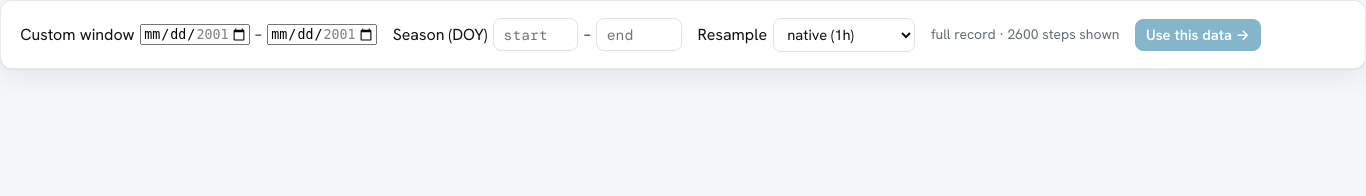
Test case: review repairs: what the bar says before "Use this data" › a window over the daily part of a daily-then-hourly record announces the new step (subset-07)
In the date field named "window start": (195, 35) [140,24,250,45], type "2001-01-01"
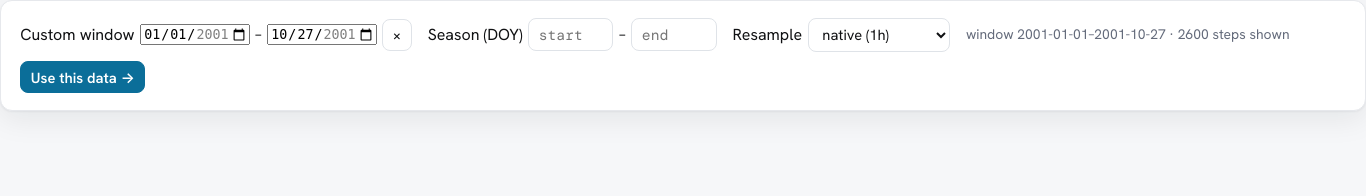
In the date field named "window end": (322, 35) [267,24,377,45], type "2001-05-31"
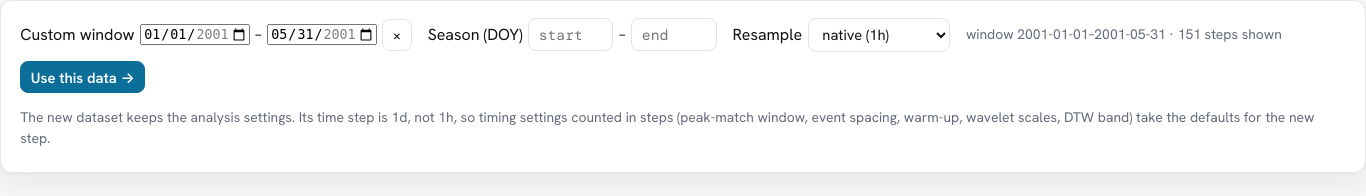
Expected: the text with class "muted" shows "Its time step is 1d, not 1h", [20,107,1346,149]
